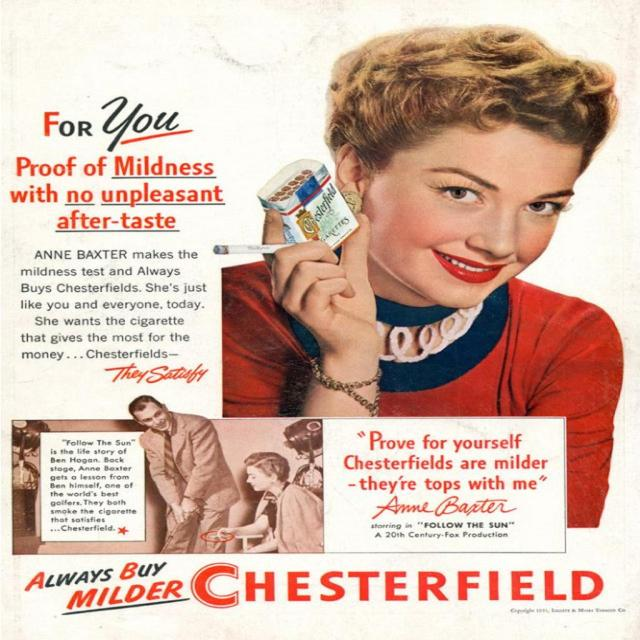smoking: (209, 78, 591, 372)
